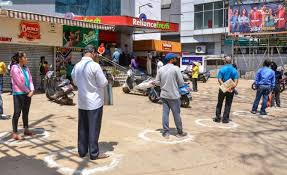Good: (70, 44, 187, 159), (5, 43, 109, 160), (150, 46, 240, 138), (38, 44, 108, 159), (149, 45, 205, 139), (213, 48, 275, 123), (189, 45, 239, 124), (7, 51, 50, 140), (113, 47, 138, 70), (98, 43, 122, 63)
